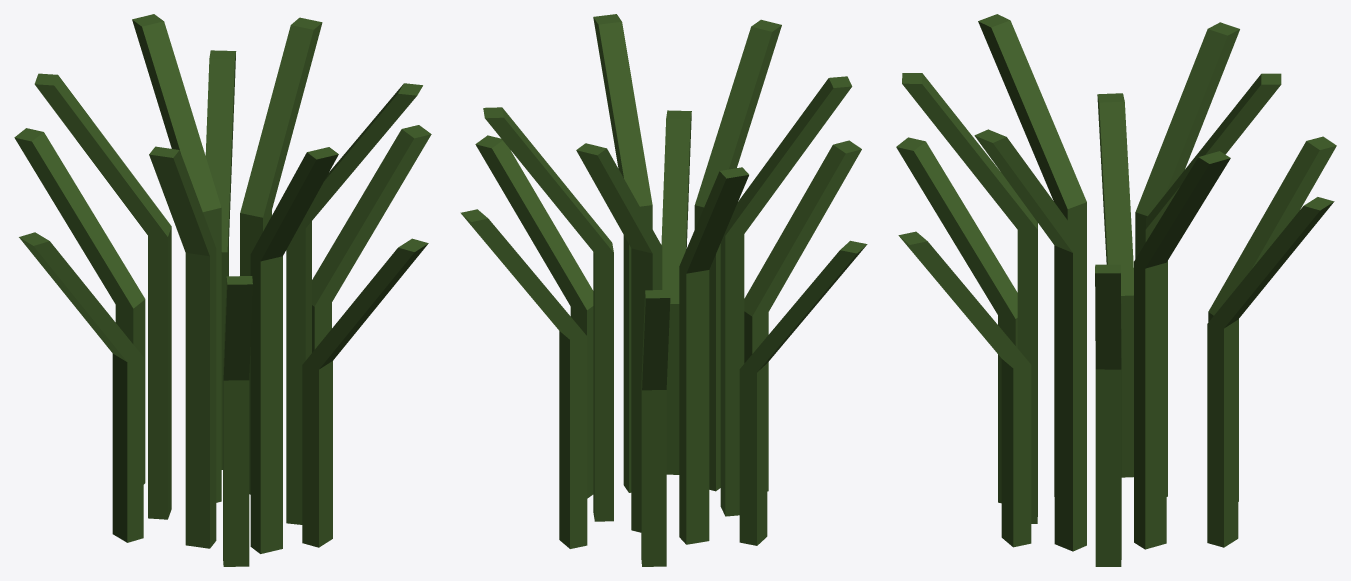
Rendered from WEED.fbx.
3 views of the same model, side by side, from view 1: azimuth 30°, elevation 25°; view 2: azimuth 150°, elevation 25°; view 3: azimuth 270°, elevation 25° (orthographic). The views are drawn at different scales.
Visible parts, largest first — view 1: Cube.003; view 2: Cube.003; view 3: Cube.003.
Boxes of the visible parts, box(x1,y1,x2,y2) form: Cube.003: box(14, 14, 431, 566); Cube.003: box(460, 14, 867, 566); Cube.003: box(896, 14, 1336, 566).
Bounding box in the file's own units: 413 × 437 × 393.
